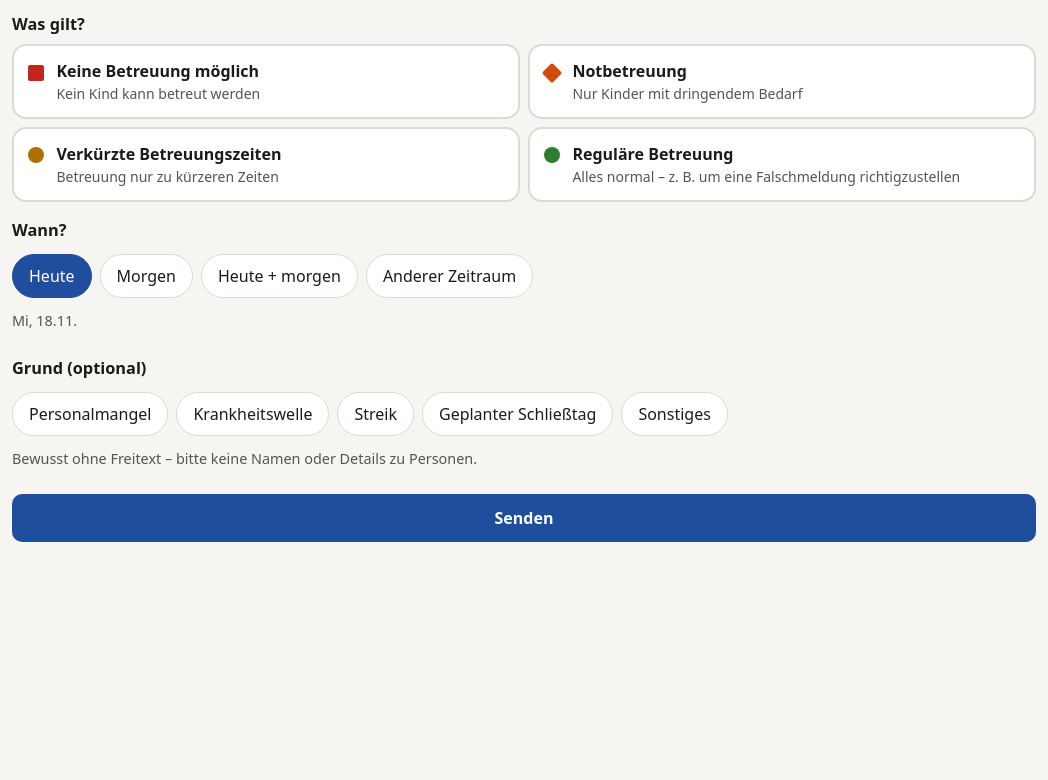
Test: MeldeFormular › zeigt Uhrzeitfelder nur bei verkürzt/Notbetreuung und prüft sie
The image size is (1048, 780).
Later steps or results of the test are not shown.
Expected: the field labelled "Beginn" is not shown
Click the radio button labelled "Verkürzte Betreuungszeiten Betreuung nur zu kürzeren Zeiten". click: (266, 164)
box: [12,127,520,202]
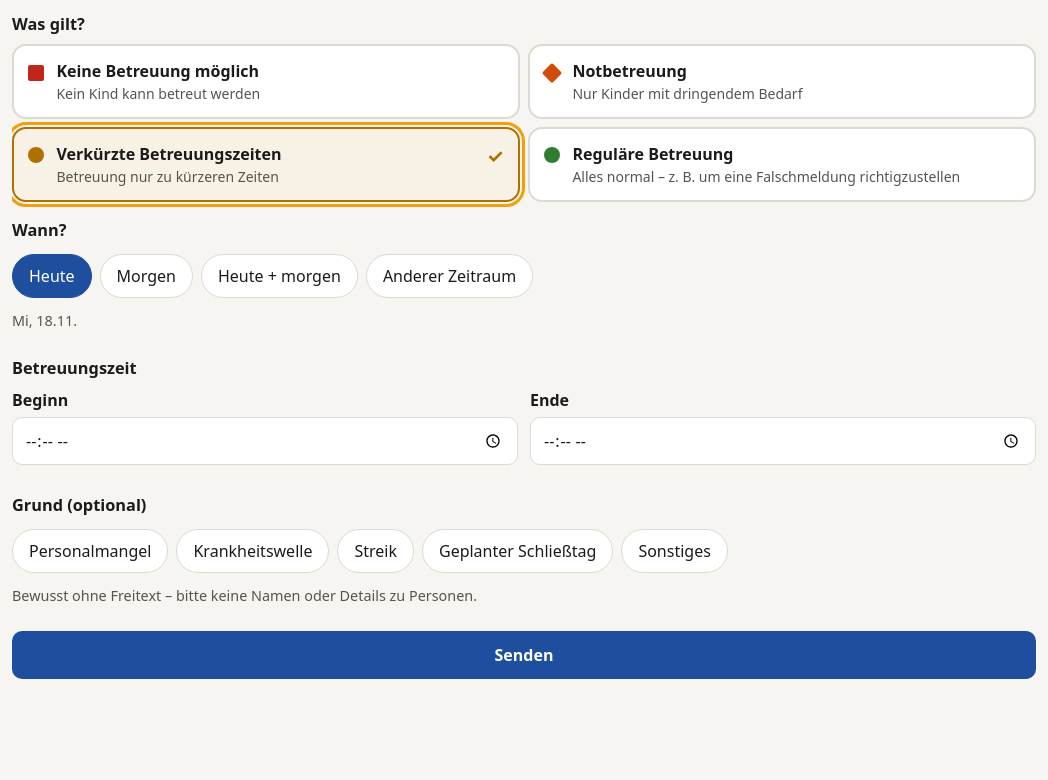
Expected: the time field labelled "Beginn" is shown, [12,417,518,465]
Click the button "Senden". click: (524, 655)
box: [12,631,1036,679]
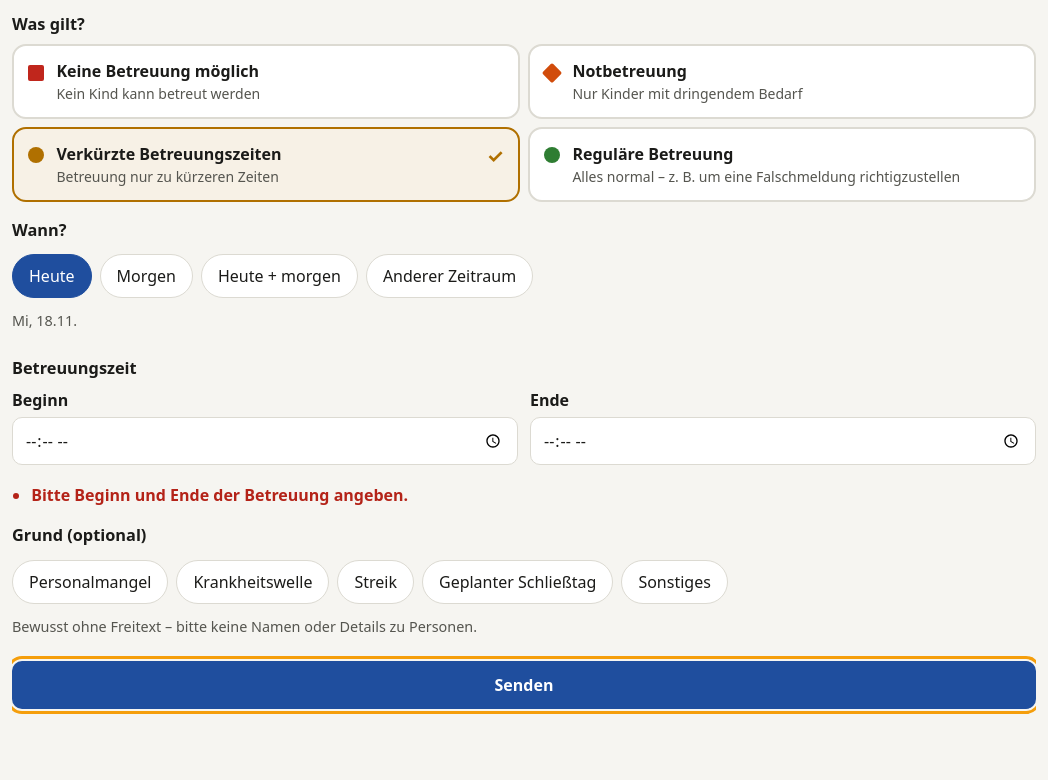
Expected: the list item "Bitte Beginn und Ende der Betreuung angeben." is shown, [31,484,408,506]
